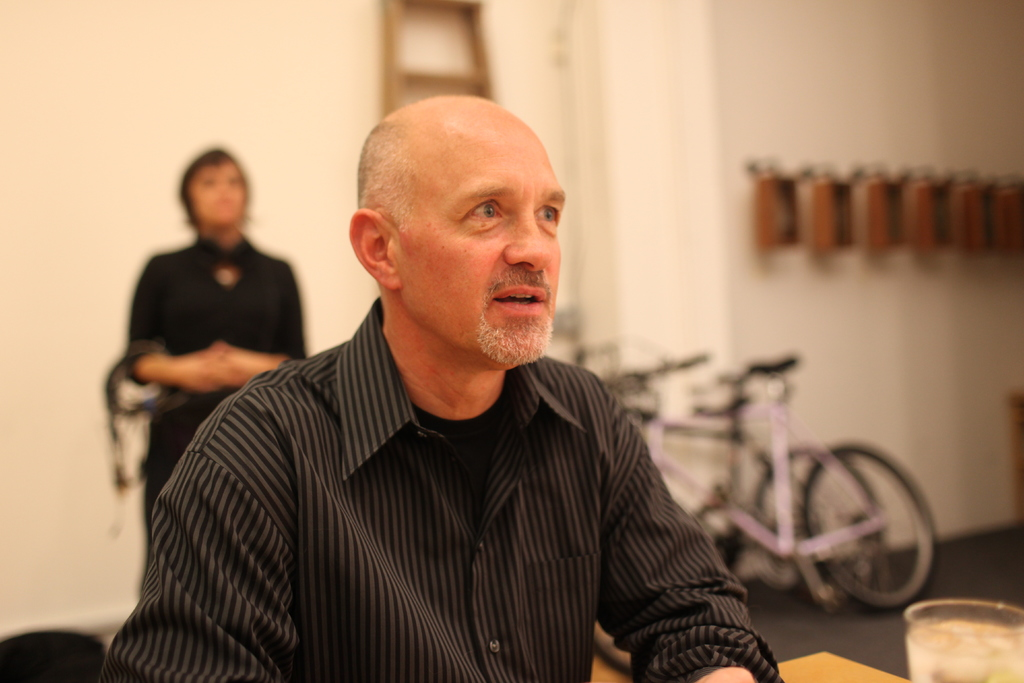Bicycle: (577, 340, 883, 606)
